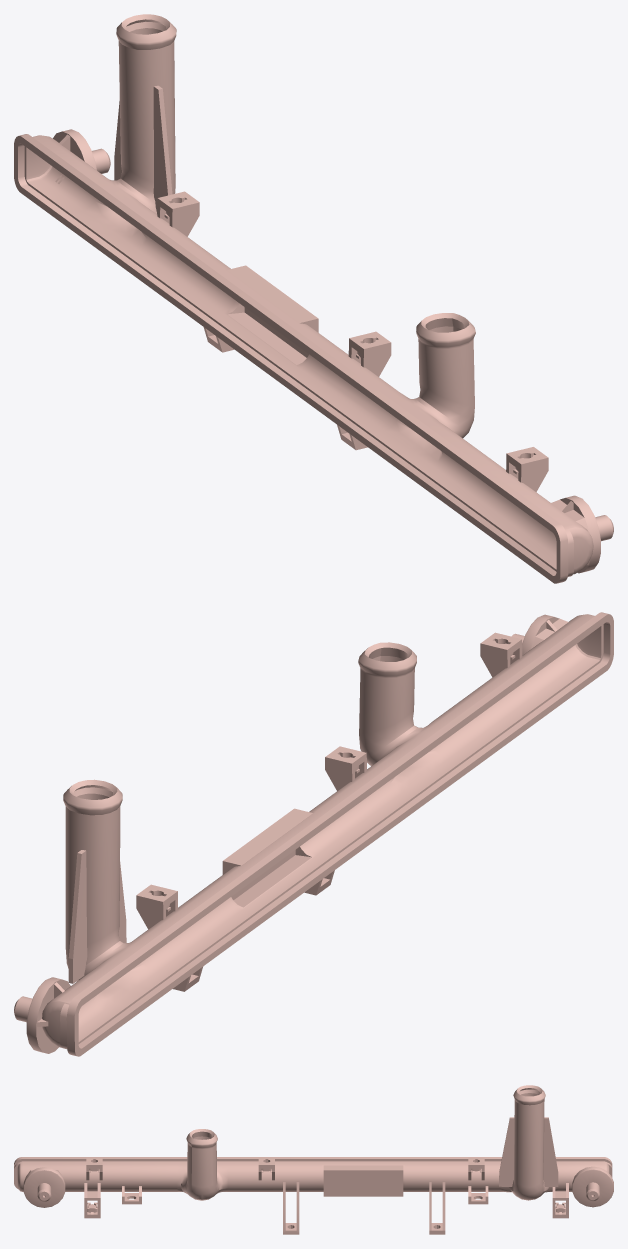
Rendered from I_PrepTC_Tank.001.fbx.
3 views of the same model, one above another, from view 1: azimuth 30°, elevation 25°; view 2: azimuth 150°, elevation 25°; view 3: azimuth 270°, elevation 25° (orthographic). The views are drawn at different scales.
Visible parts, largest first — view 1: I_PrepTC_Tank.001; view 2: I_PrepTC_Tank.001; view 3: I_PrepTC_Tank.001.
Boxes of the visible parts, left/top/right/bottom form: I_PrepTC_Tank.001: left=14, top=14, right=613, bottom=583; I_PrepTC_Tank.001: left=14, top=612, right=613, bottom=1056; I_PrepTC_Tank.001: left=14, top=1085, right=613, bottom=1234.
Size of the model in its own units: 5.62 by 16.63 by 64.17.
